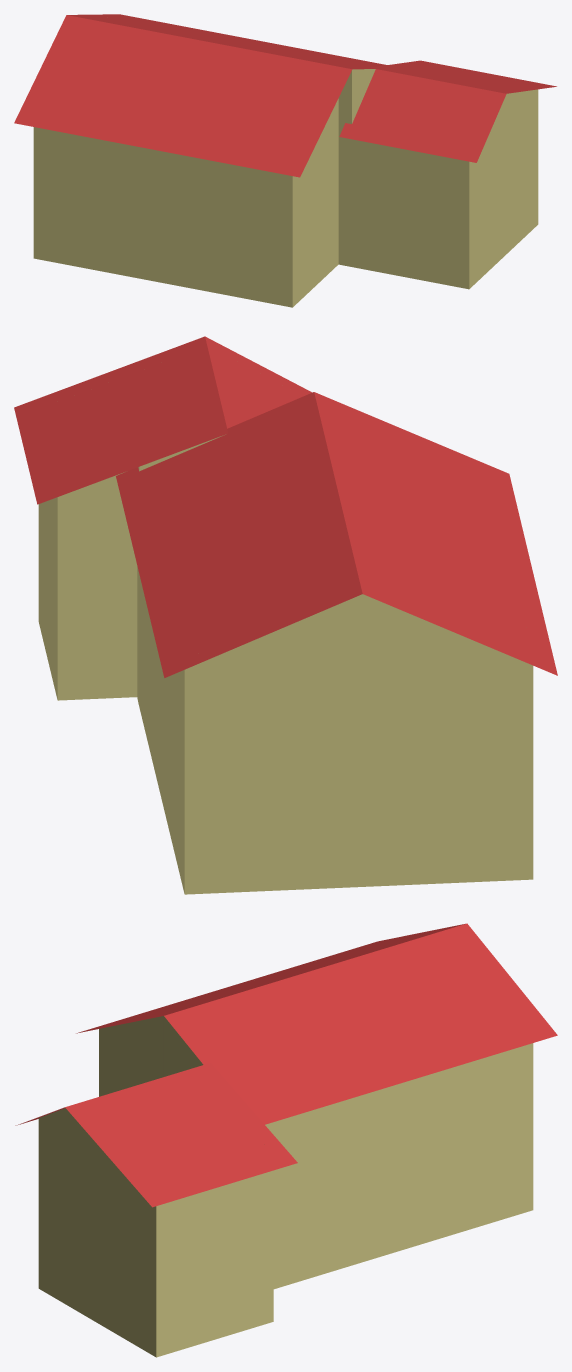
3 renders of one model, top to bottom at view 1: azimuth 30°, elevation 25°; view 2: azimuth 150°, elevation 25°; view 3: azimuth 270°, elevation 25°, orthographic. The views are drawn at different scales.
Bounding box in the file's own units: 26.36 × 23.17 × 11.06.
